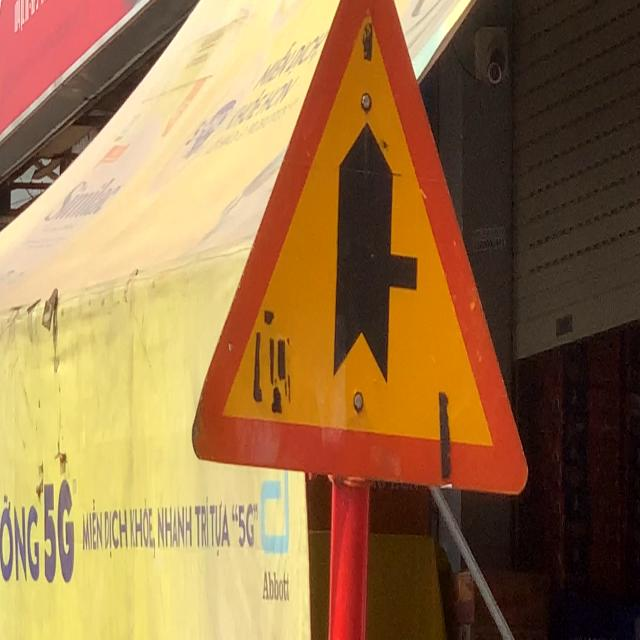W.207b: (185, 0, 534, 513)
